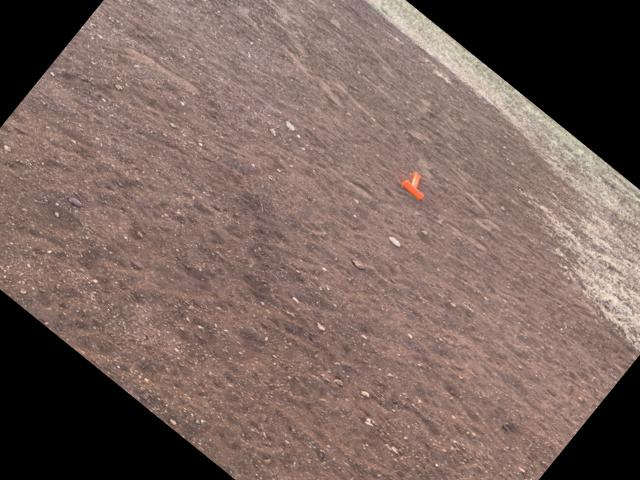hammer: (398, 167, 432, 201)
